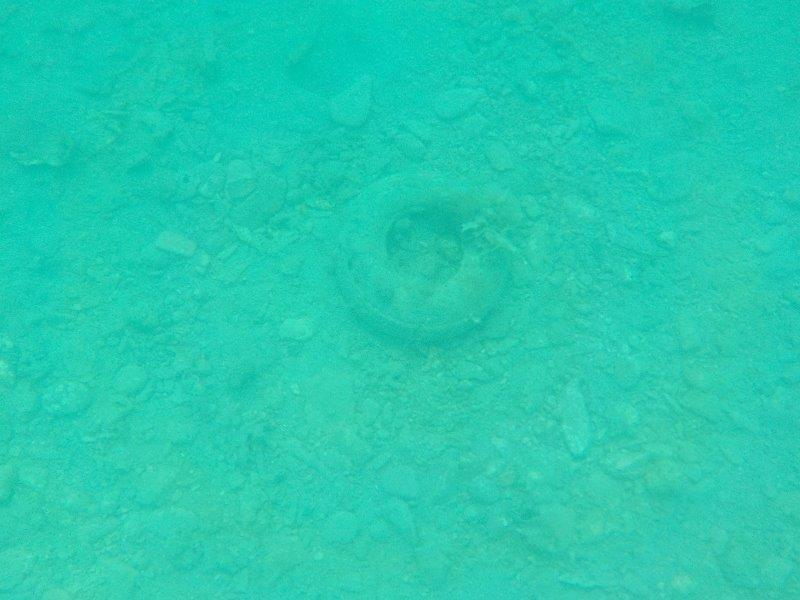tire: (329, 164, 517, 352)
